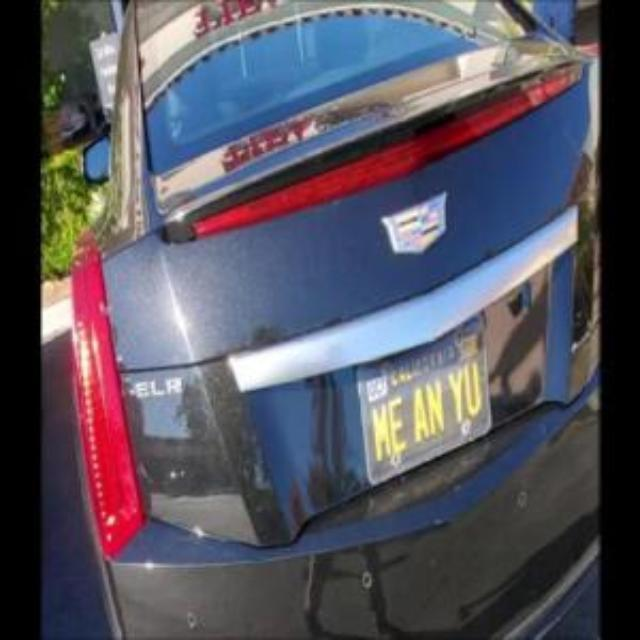License Plate: (357, 317, 492, 489)
